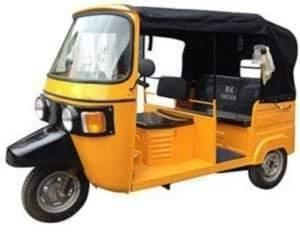keke: (21, 0, 298, 229)
